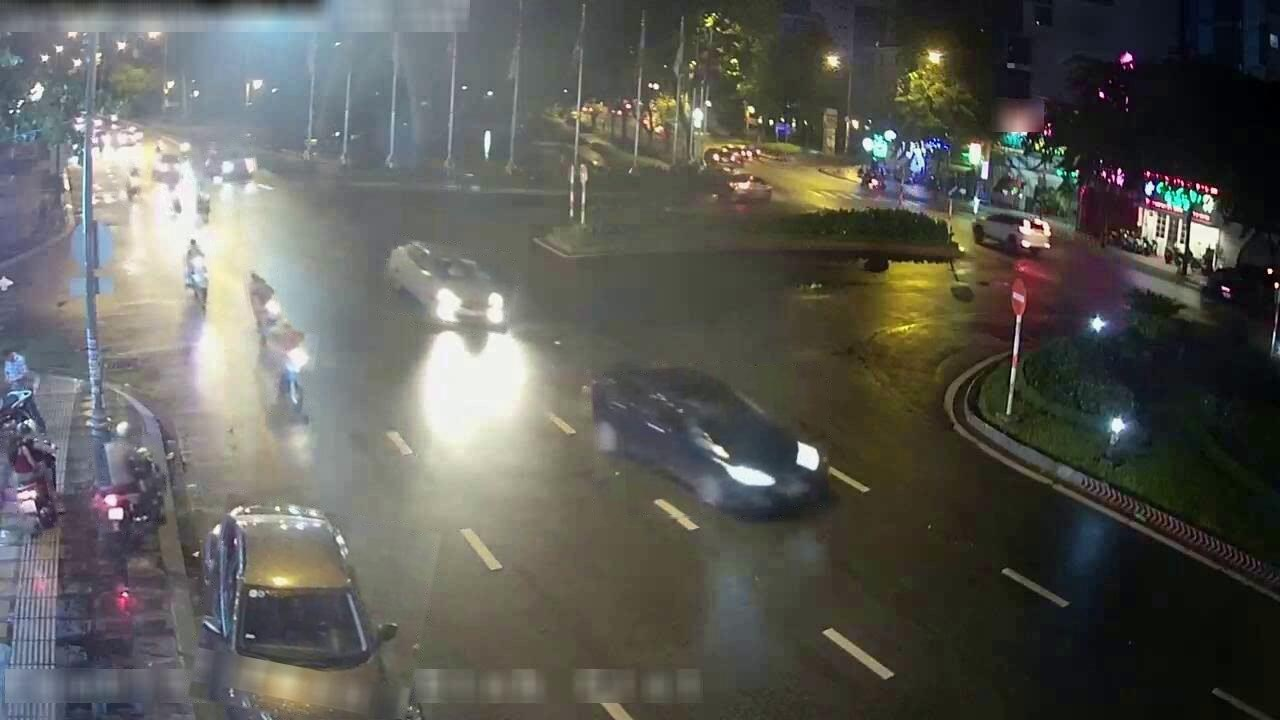Car: (194, 504, 403, 719), (588, 366, 829, 515), (385, 240, 509, 330), (93, 440, 166, 544), (973, 212, 1051, 254), (203, 146, 257, 183), (727, 172, 772, 202), (151, 153, 180, 185)
Motorcyclist: (9, 427, 57, 528), (277, 328, 310, 414), (247, 272, 280, 328), (185, 239, 208, 308), (165, 178, 183, 216), (195, 183, 212, 222), (125, 164, 141, 202)
Sign: (1010, 276, 1027, 316)
